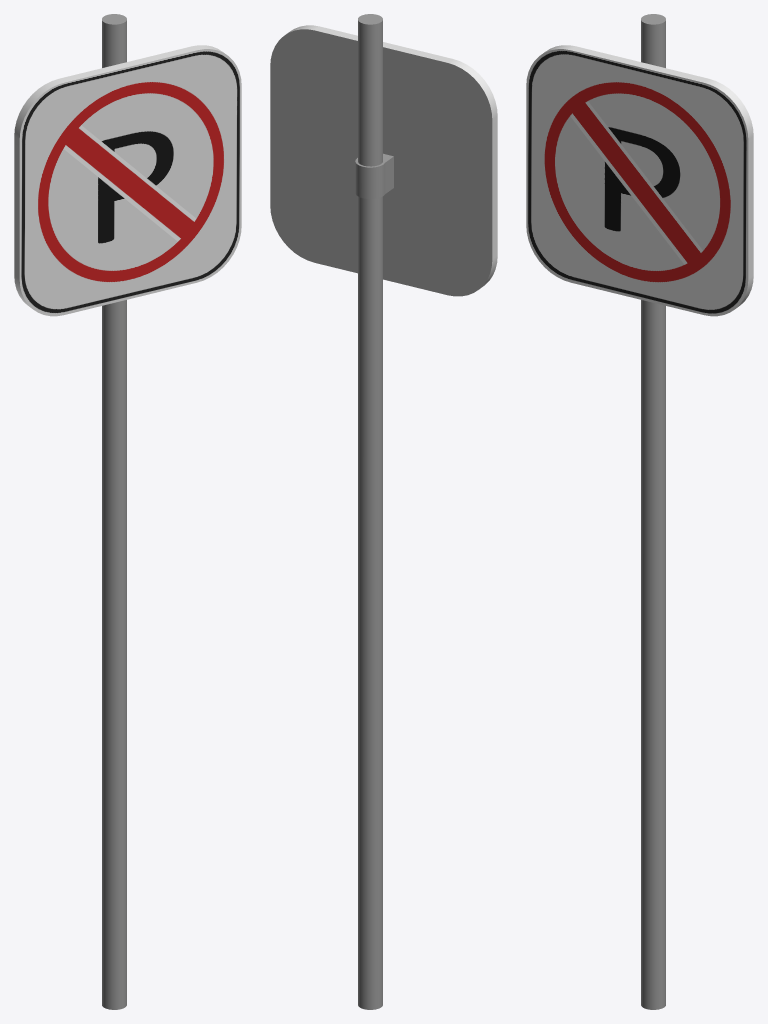
File: sign_2WTextures.fbx
The picture shows the model from 3 angles, left to right: view 1: azimuth 30°, elevation 25°; view 2: azimuth 150°, elevation 25°; view 3: azimuth 330°, elevation 25°; orthographic projection.
Visible parts, largest first — view 1: pCube5; view 2: pCube5; view 3: pCube5.
Boxes of the visible parts, <box> form: pCube5: <box>14,14,241,1009</box>; pCube5: <box>270,14,497,1009</box>; pCube5: <box>526,14,753,1009</box>.
Size of the model in its own units: 10.13 by 42.96 by 1.88.
Materials: 1 (1 with a texture image).
